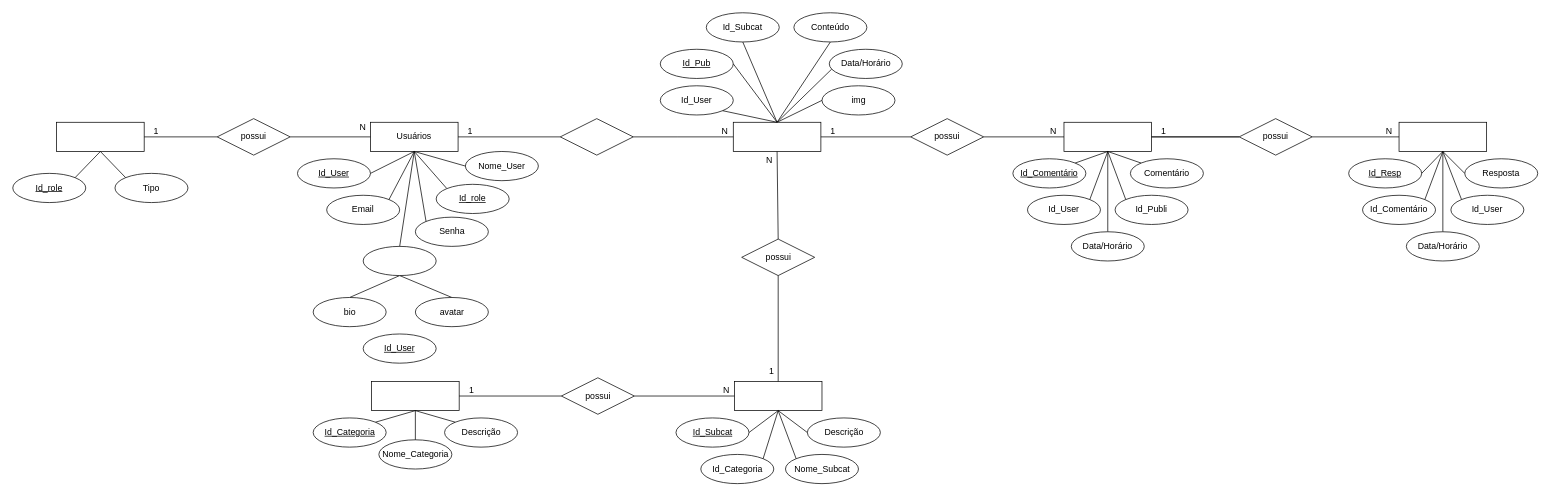
Some shapes in this 1551 by 496 pixel diagram are drawn without their labels. The centre of each missing label's shape, as x and y in pixels:
Categorias: the point at 415,396
Comentários: the point at 1107,136
posta: the point at 596,136
Profiles: the point at 399,261
Publicações: the point at 777,136
Respostas: the point at 1442,136
Roles: the point at 100,136
Sub_Categorias: the point at 778,396
